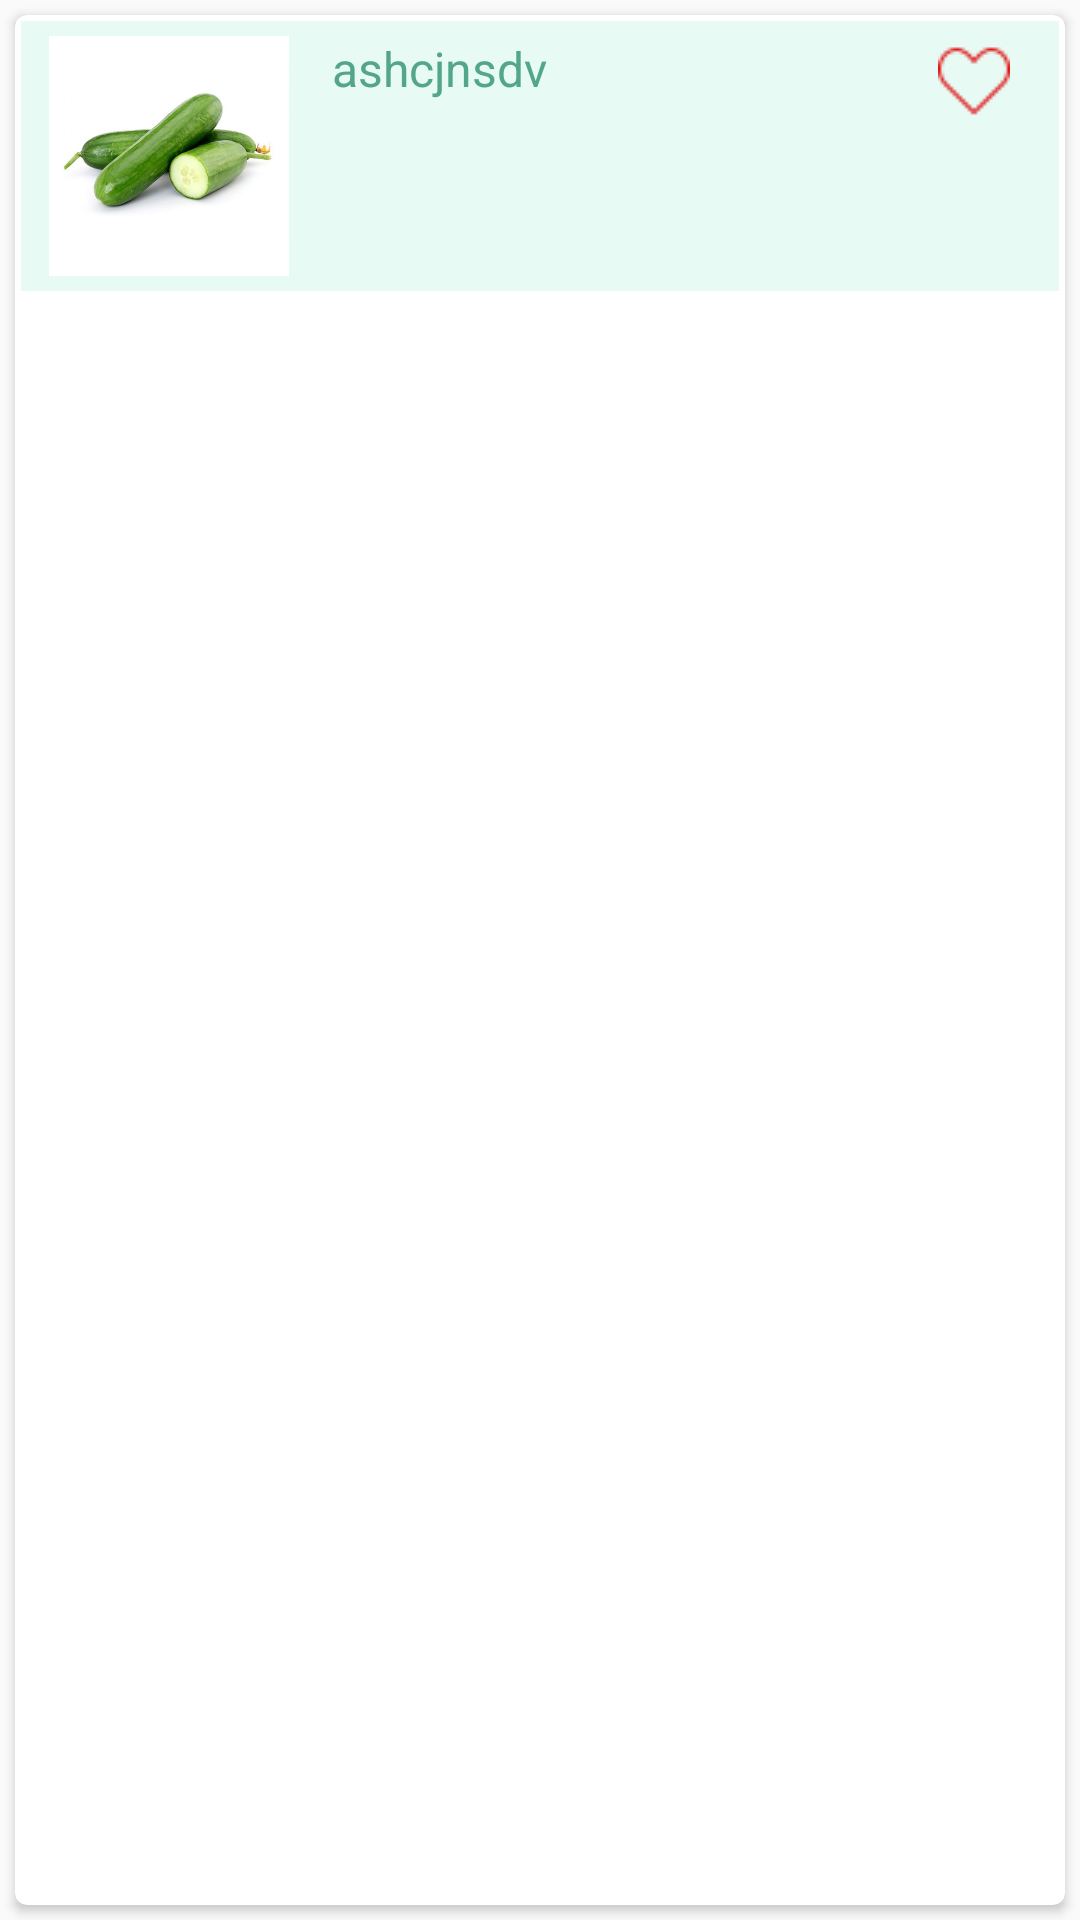

Named icons in this screenshot (1080 x 1920) and their bounding boxes, {"left": x1, "top": y1, "right": x2, "bottom": y2}:
cucumber: {"left": 64, "top": 93, "right": 272, "bottom": 211}
heart: {"left": 938, "top": 47, "right": 1010, "bottom": 115}
